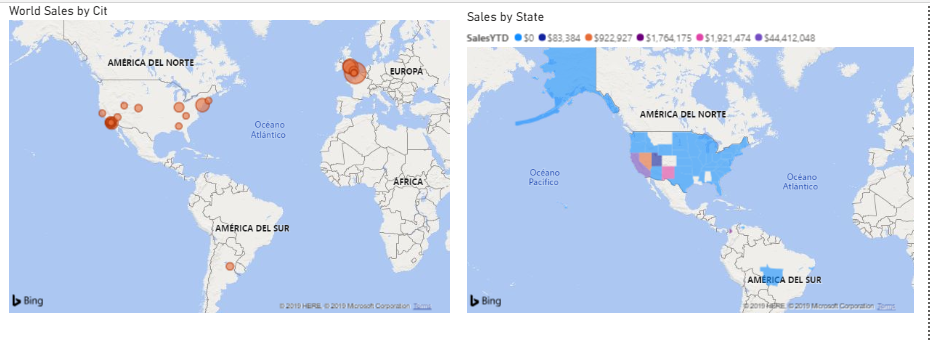

The page's visual inventory and layout, read from the dashboard file:
{"tool":"powerbi","page":{"name":"Página 2","canvas":[1280,720],"ordinal":1},"visuals":[{"type":"map","title":"World Sales by Cit","fields":{"Category":["Customers.City"],"Size":["Sum(Sales.LineTotal)"]},"box":[9.6,0,583.7,417.1],"z":0},{"type":"filledMap","title":"Sales by State","fields":{"Category":["Sales by State.States with Codes.State Code Short"],"Series":["Sales by State.SalesYTD"]},"box":[620.9,8.3,578.2,400.6],"z":1000}]}

Visuals, with their boxes on the page's 1280x720 design canvas (x1, y1, x2, y2). These are canvas units, not pixel positions in the 930x342 screenshot, which may show the page scaled, cropped or inside an application window:
"World Sales by Cit" map: [x1=10, y1=0, x2=593, y2=417]
"Sales by State" filledMap: [x1=621, y1=8, x2=1199, y2=409]
